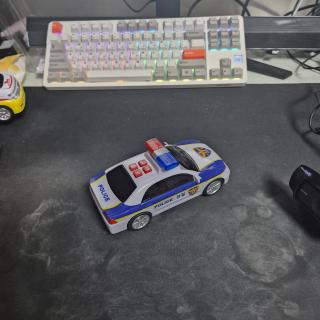Police_car: (89, 138, 230, 233)
